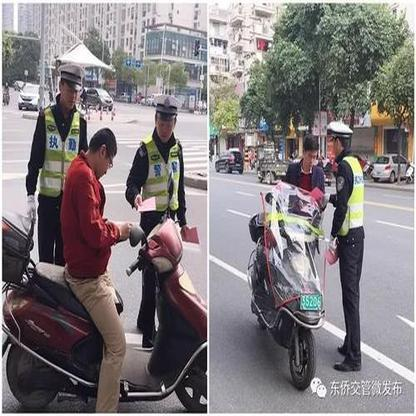target: (4, 128, 205, 411), (246, 132, 333, 393)
